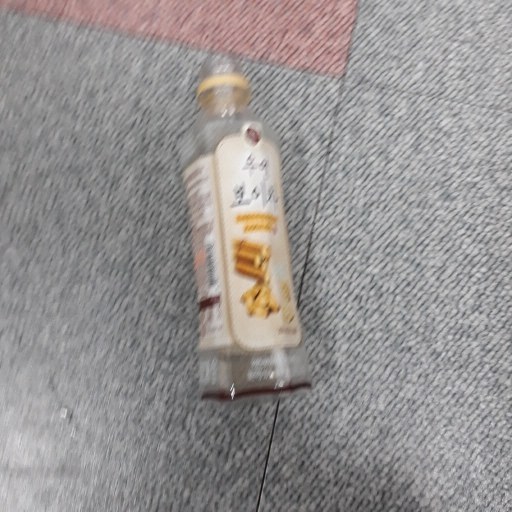Plastic_0: (175, 55, 315, 401)
